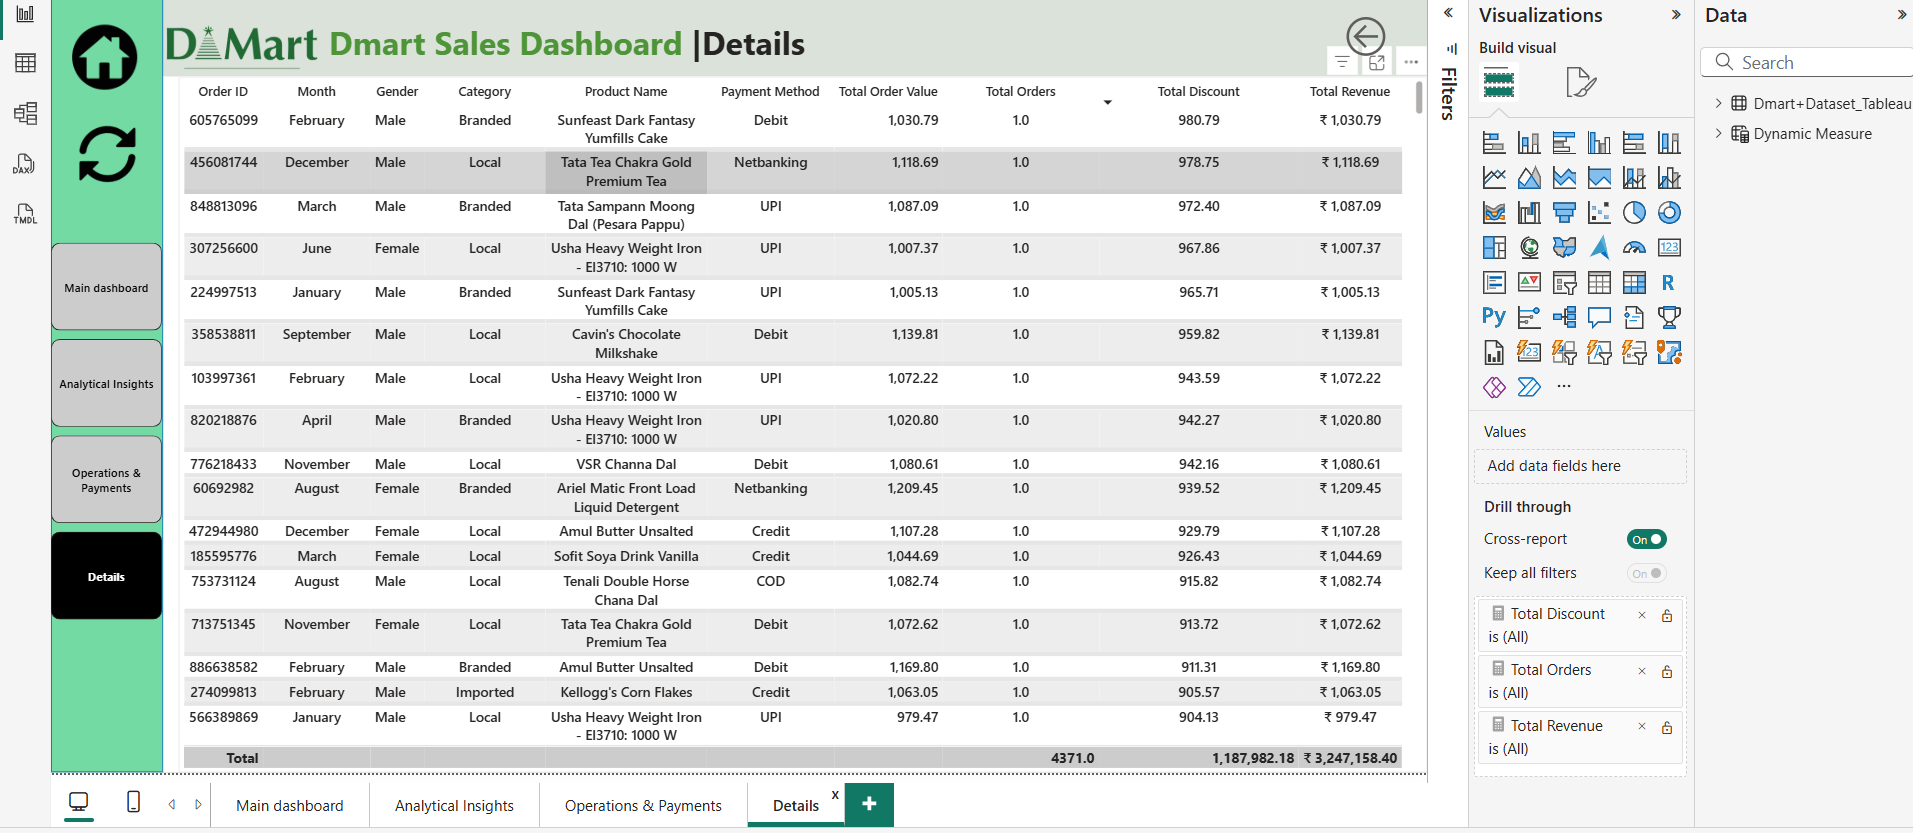

Layout of this report page (visuals, bound fields, positions):
{"tool":"powerbi","page":{"name":"Details","canvas":[1600,900],"ordinal":3},"visuals":[{"type":"shape","box":[0,0,130.4,899.1],"z":0},{"type":"textbox","box":[318.3,20.9,791.3,64.3],"z":1000},{"type":"image","box":[128.7,19.1,189.6,69.6],"z":2000},{"type":"shape","box":[130.4,90.4,1469.6,808.7],"z":3000},{"type":"shape","box":[988,430,380,20],"z":4000},{"type":"tableEx","fields":{"Values":["Dmart+Dataset_Tableau.Order ID","Dmart+Dataset_Tableau.Month","Dmart+Dataset_Tableau.Gender","Dmart+Dataset_Tableau.Category","Dmart+Dataset_Tableau.Product Name","Dmart+Dataset_Tableau.Payment Method","Dmart+Dataset_Tableau.Total Order Value","Dmart+Dataset_Tableau.Total Orders","Dmart+Dataset_Tableau.Total Discount","Dmart+Dataset_Tableau.Total Revenue"]},"box":[147.8,90.4,1452.2,808.7],"z":5000},{"type":"actionButton","box":[1500,14,100,58],"z":6000},{"type":"pageNavigator","box":[0,283.4,129.4,440.4],"z":7000},{"type":"image","box":[10,10,106.1,113],"z":8000},{"type":"image","box":[13.9,123.5,106.1,111.3],"z":9000}]}

Visuals, with their boxes on the page's 1600x900 design canvas (x1, y1, x2, y2). These are canvas units, not pixel positions in the 1913x833 screenshot, which may show the page scaled, cropped or inside an application window:
shape: pyautogui.locateOnScreen(0, 0, 130, 899)
textbox: pyautogui.locateOnScreen(318, 21, 1110, 85)
image: pyautogui.locateOnScreen(129, 19, 318, 89)
shape: pyautogui.locateOnScreen(130, 90, 1600, 899)
shape: pyautogui.locateOnScreen(988, 430, 1368, 450)
tableEx - Dmart+Dataset_Tableau.Order ID x Dmart+Dataset_Tableau.Month: pyautogui.locateOnScreen(148, 90, 1600, 899)
actionButton: pyautogui.locateOnScreen(1500, 14, 1600, 72)
pageNavigator: pyautogui.locateOnScreen(0, 283, 129, 724)
image: pyautogui.locateOnScreen(10, 10, 116, 123)
image: pyautogui.locateOnScreen(14, 124, 120, 235)
